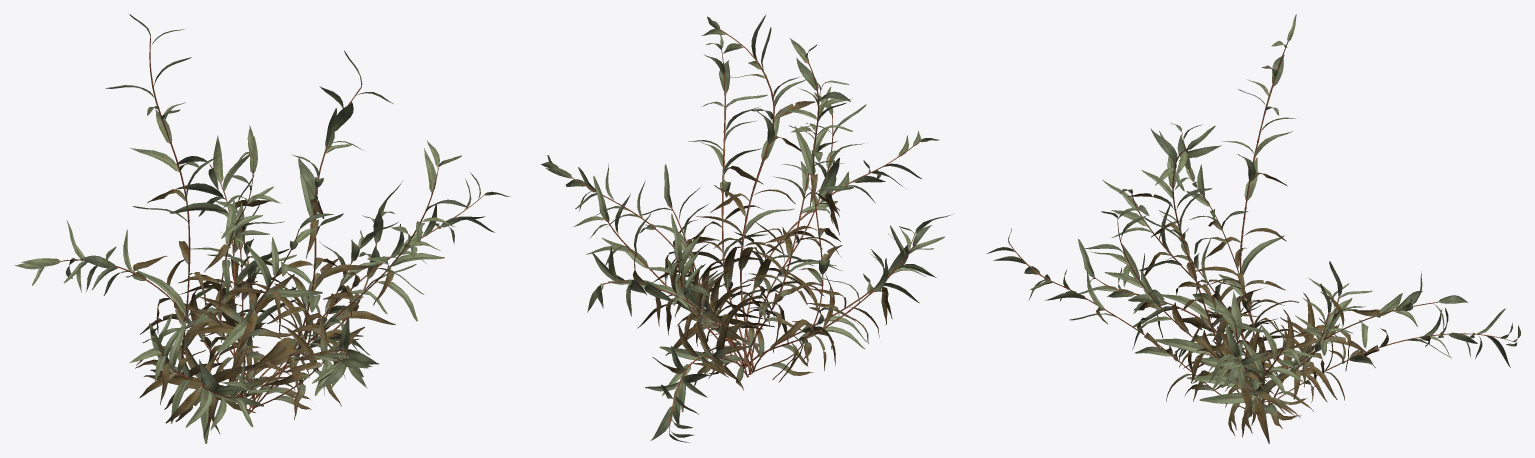
Rendered from shrub_02.glb.
3 views of the same model, side by side, from view 1: azimuth 30°, elevation 25°; view 2: azimuth 150°, elevation 25°; view 3: azimuth 270°, elevation 25° (orthographic). The views are drawn at different scales.
Parts seen in each view (by area): view 1: shrub_a, shrub_c, shrub_b; view 2: shrub_a, shrub_c, shrub_b; view 3: shrub_a, shrub_c, shrub_b.
Boxes of the visible parts, left/top/right/bottom form: shrub_a: left=105, top=14, right=467, bottom=404; shrub_c: left=14, top=125, right=510, bottom=433; shrub_b: left=144, top=50, right=398, bottom=443; shrub_a: left=573, top=35, right=866, bottom=377; shrub_c: left=541, top=80, right=944, bottom=442; shrub_b: left=641, top=14, right=951, bottom=382; shrub_a: left=1085, top=14, right=1467, bottom=443; shrub_c: left=986, top=123, right=1520, bottom=435; shrub_b: left=1078, top=126, right=1372, bottom=429.
Size of the model in its own units: 1.77 by 1.69 by 2.29.
3 materials, 3 textured.
